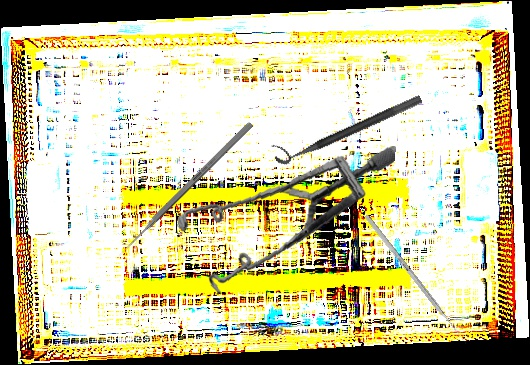Fixation Ring: (269, 82, 424, 168)
Pusher: (116, 121, 254, 258), (364, 214, 468, 345)
Speculum: (170, 124, 397, 311)
